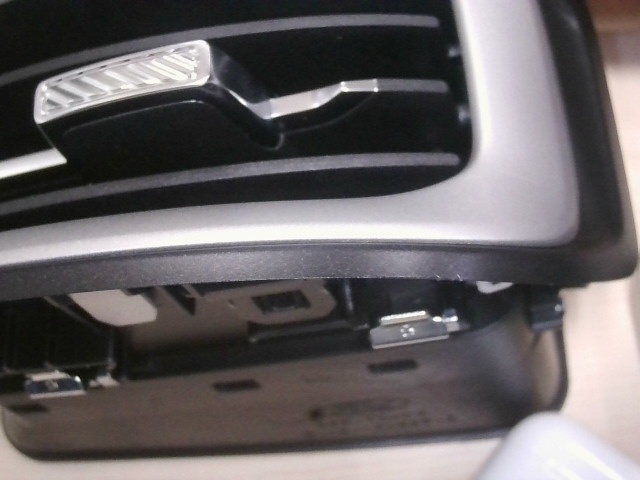NG: (494, 162, 542, 187), (431, 263, 464, 292)
